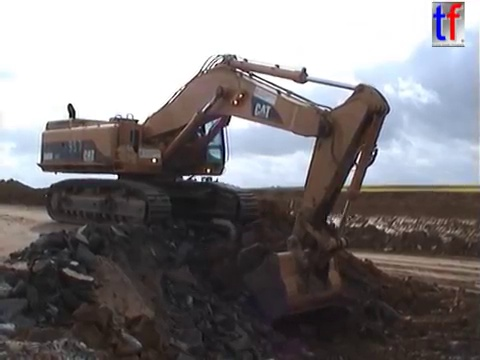excavator: (34, 51, 393, 320)
